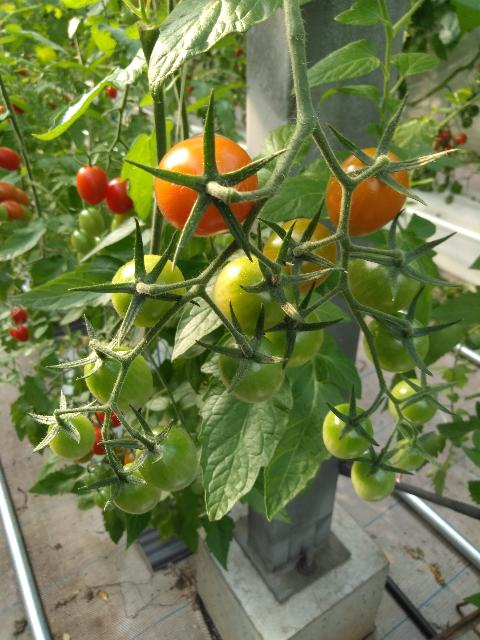l_fully_ripened: (76, 164, 108, 205), (105, 177, 134, 214)
l_green: (212, 254, 296, 331), (110, 254, 186, 328), (346, 247, 421, 317), (84, 341, 153, 412), (218, 330, 285, 403), (255, 302, 325, 367), (135, 425, 200, 492), (363, 312, 429, 373), (321, 403, 374, 461), (110, 461, 161, 514), (388, 378, 439, 427), (350, 451, 396, 503), (47, 413, 96, 460), (392, 438, 424, 473), (79, 206, 105, 237)
l_half_ripened: (153, 135, 260, 236), (325, 147, 408, 238), (261, 217, 337, 295)
